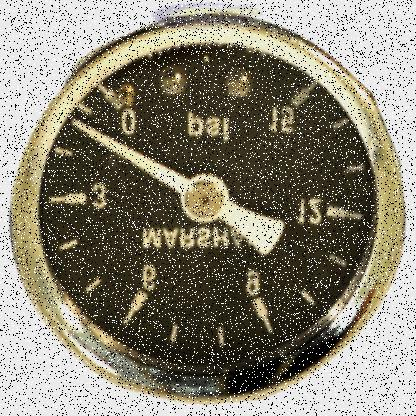needle: (70, 117, 189, 196)
